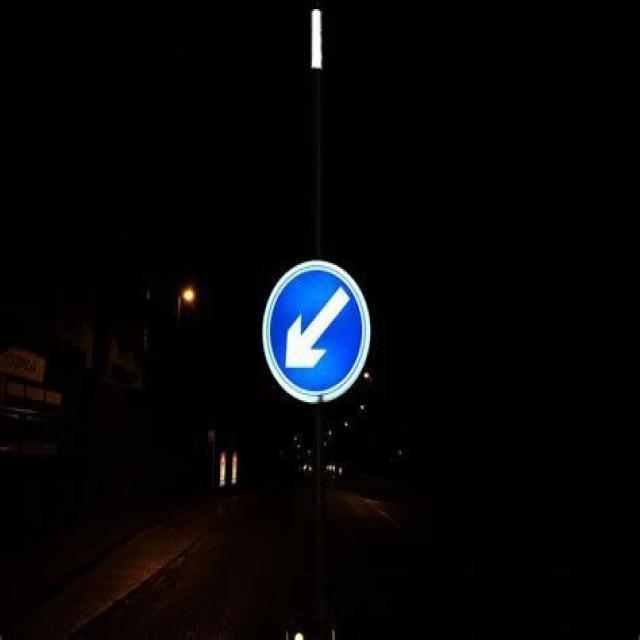compulsary keep left: (259, 261, 381, 402)
